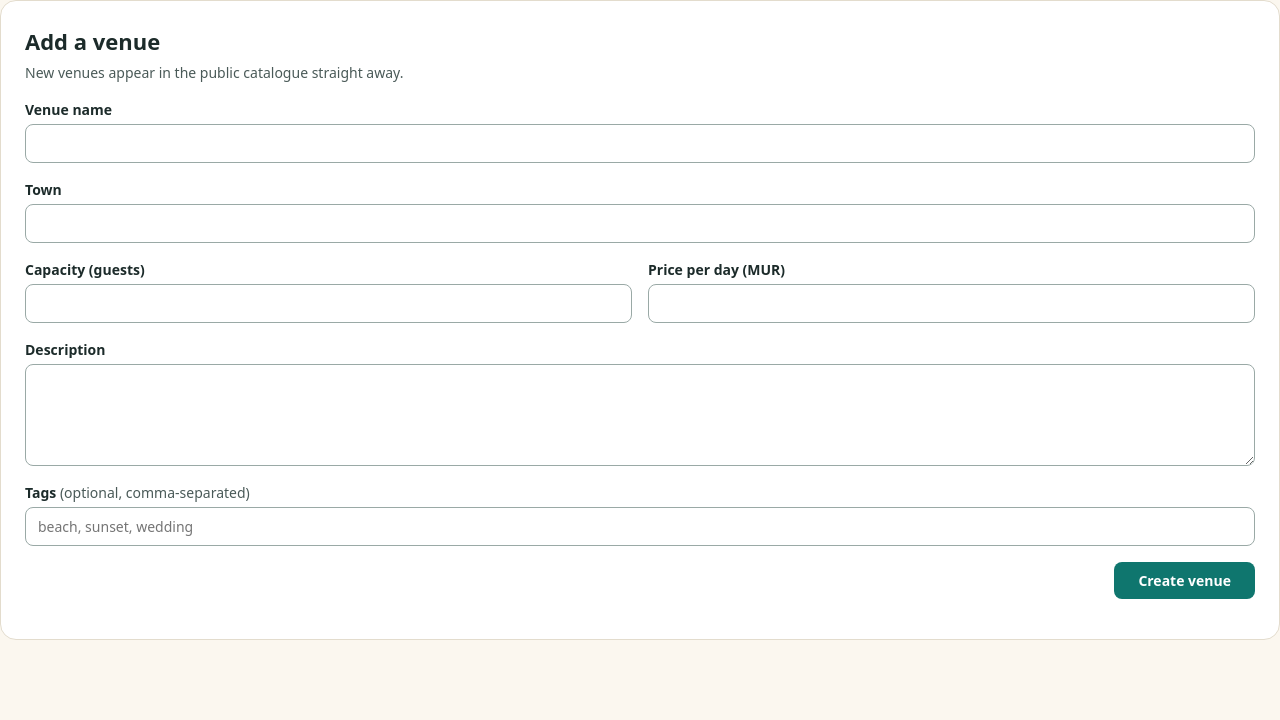
Scenario: CreateVenueForm: submit › posts a trimmed, typed venue, confirms, and resets the form
This screenshot has width=1280, height=720.
Type "  Tamarin Bay Boathouse  " into the field labelled "Venue name" at (640, 144), box [25,124,1255,163]
Type "Tamarin" into the field labelled "Town" at (640, 224), box [25,204,1255,243]
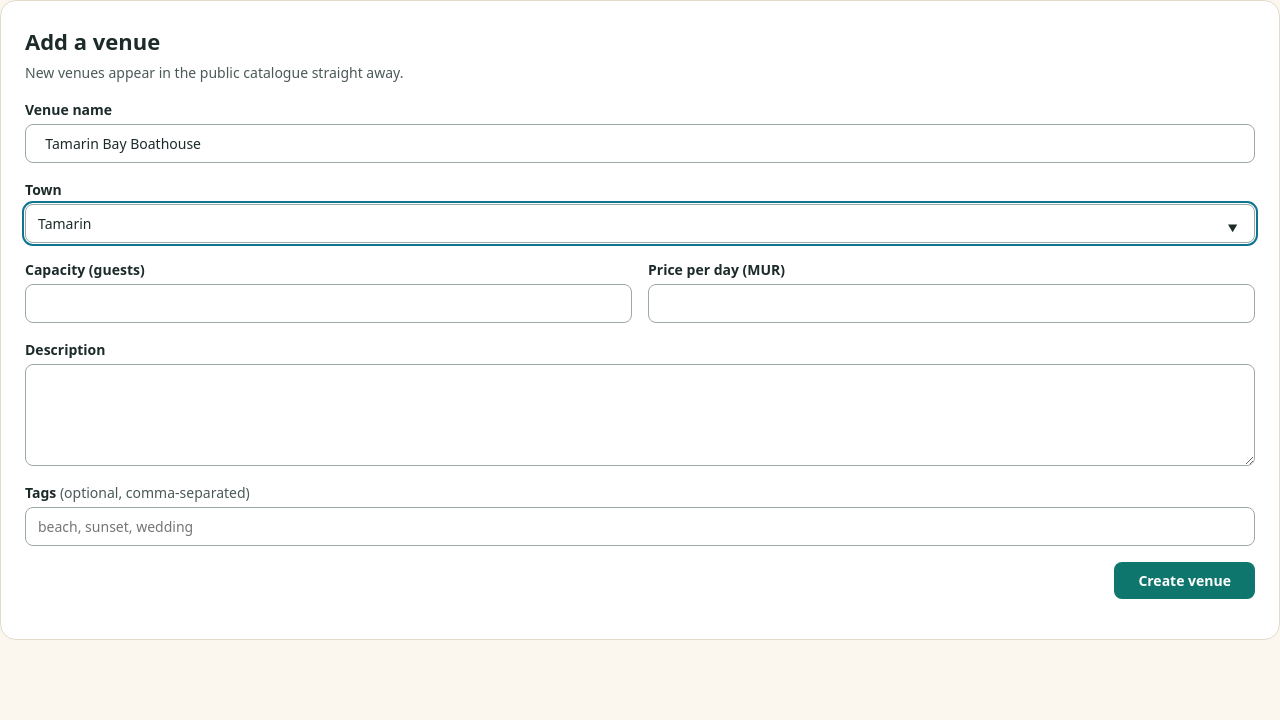
Type "120" into the field labelled "Capacity (guests)" at (328, 304), box [25,284,632,323]
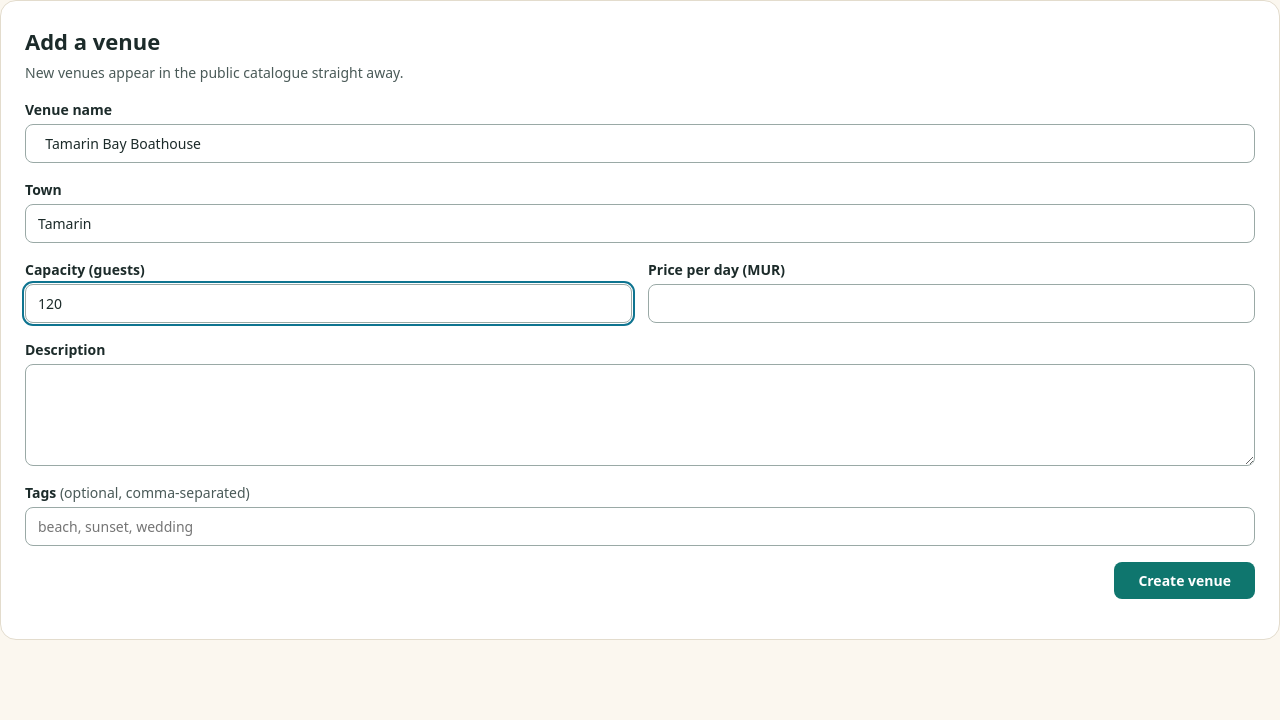
Type "85000" into the field labelled "Price per day (MUR)" at (952, 304), box [648,284,1255,323]
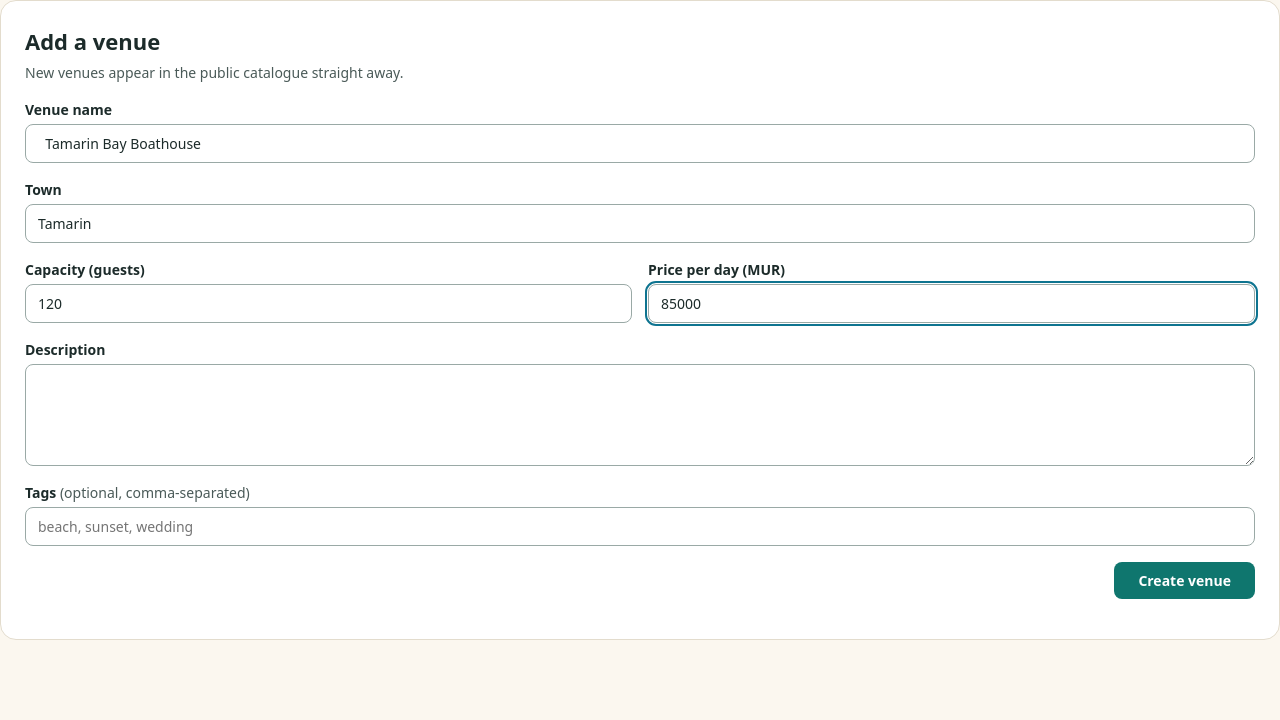
Type "Open-sided boathouse on the bay, sunset views." into the text box labelled "Description" at (640, 415), box [25,364,1255,466]
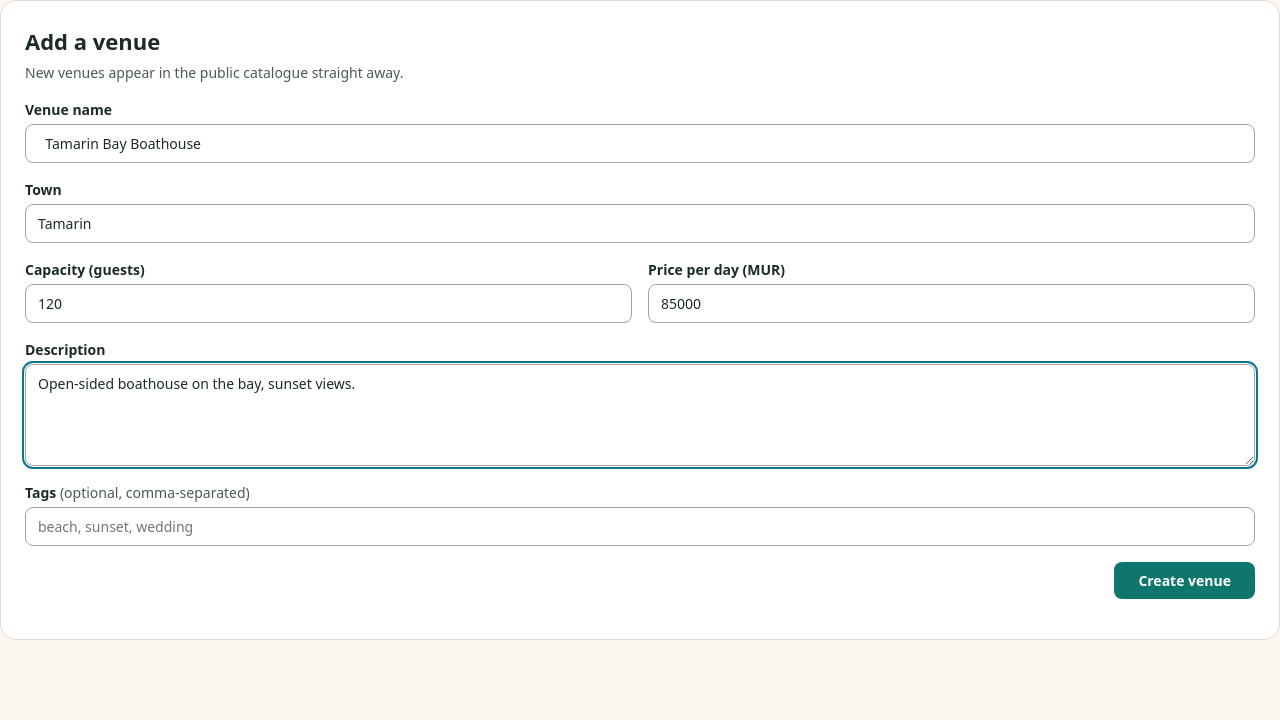
Type "Beach, sunset, beach ,  wedding" into the field labelled "Tags (optional, comma-separated)" at (640, 526), box [25,507,1255,546]
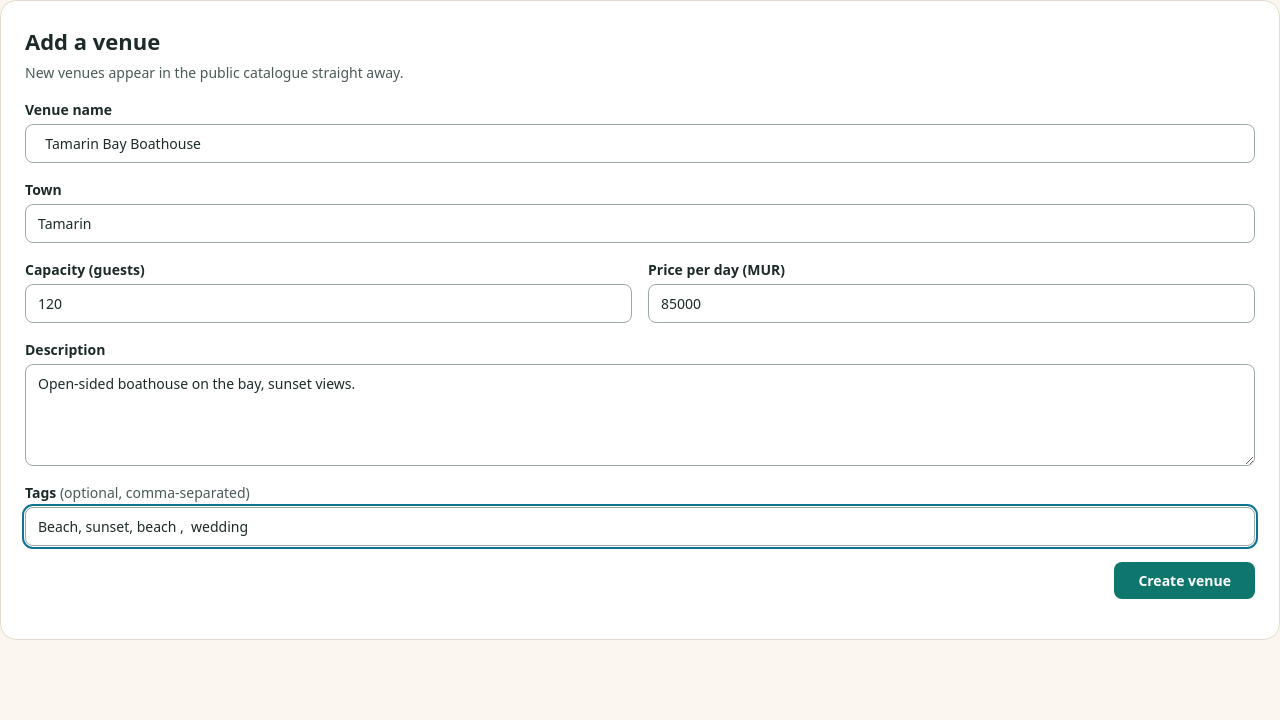
Click the button "Create venue" at (1185, 580), box [1114,562,1255,599]
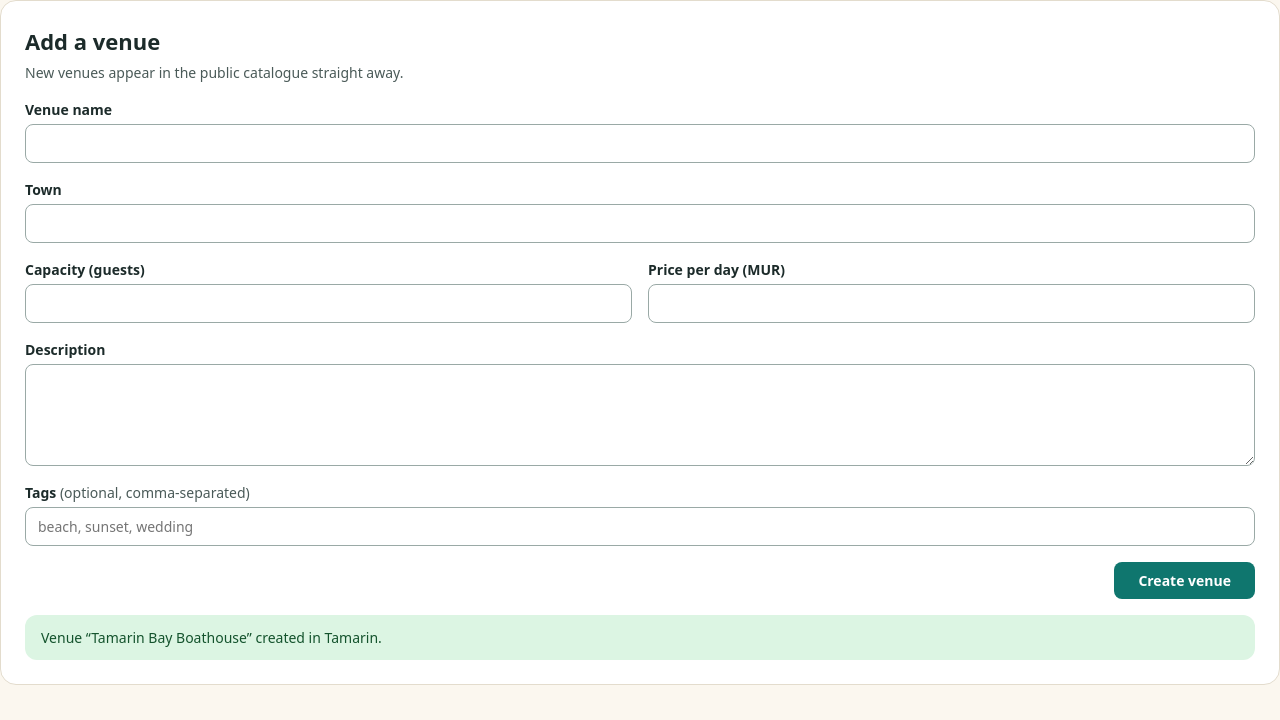
expect the text "Venue “Tamarin Bay Boathouse” created in Tamarin." is shown: met, box [25,615,1255,660]
expect the field labelled "Venue name" is empty: met, box [25,124,1255,163]
expect the field labelled "Tags (optional, comma-separated)" is empty: met, box [25,507,1255,546]
